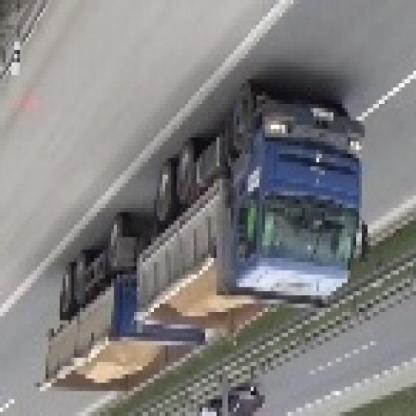truck: (47, 89, 374, 401)
